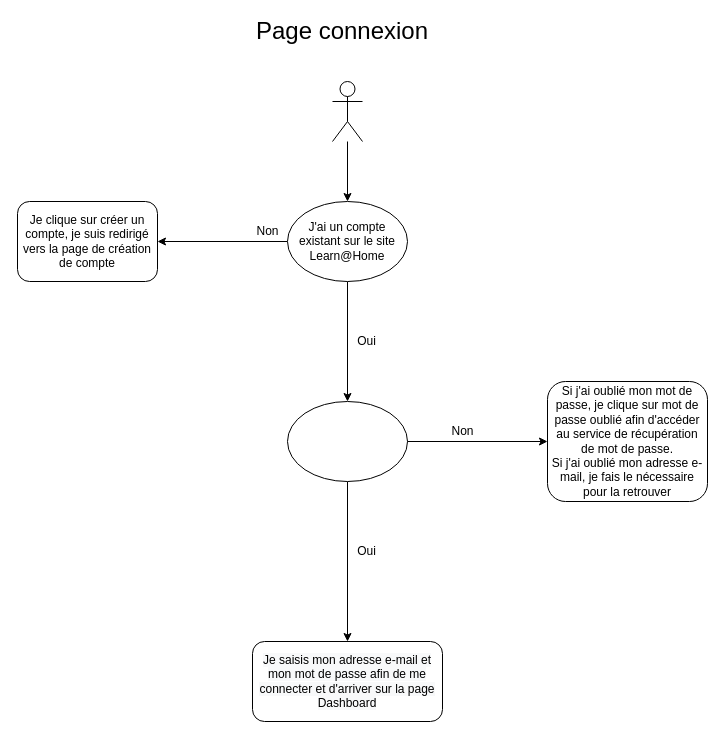
Some shapes in this 725 by 739 pixel diagram are drawn without their labels. Here are the shapes that lost their labels. From the top down, the centre of each, then its label:
At [347,111]: "Utilisateur non connecté".
At [347,441]: "Je connais mon adresse e-mail et mon mot de passe".
